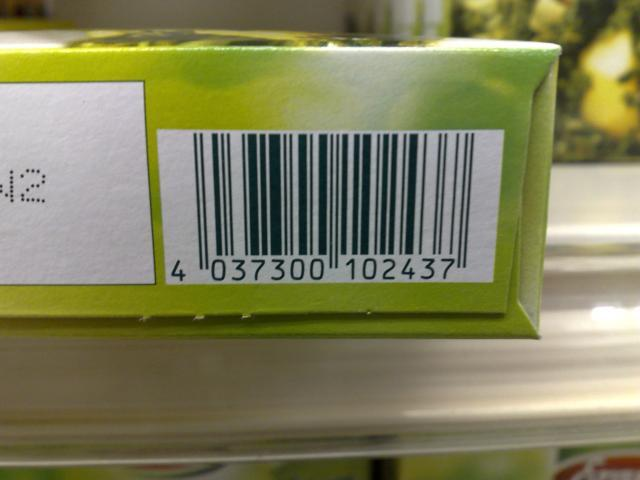Barcode: (166, 128, 478, 286)
